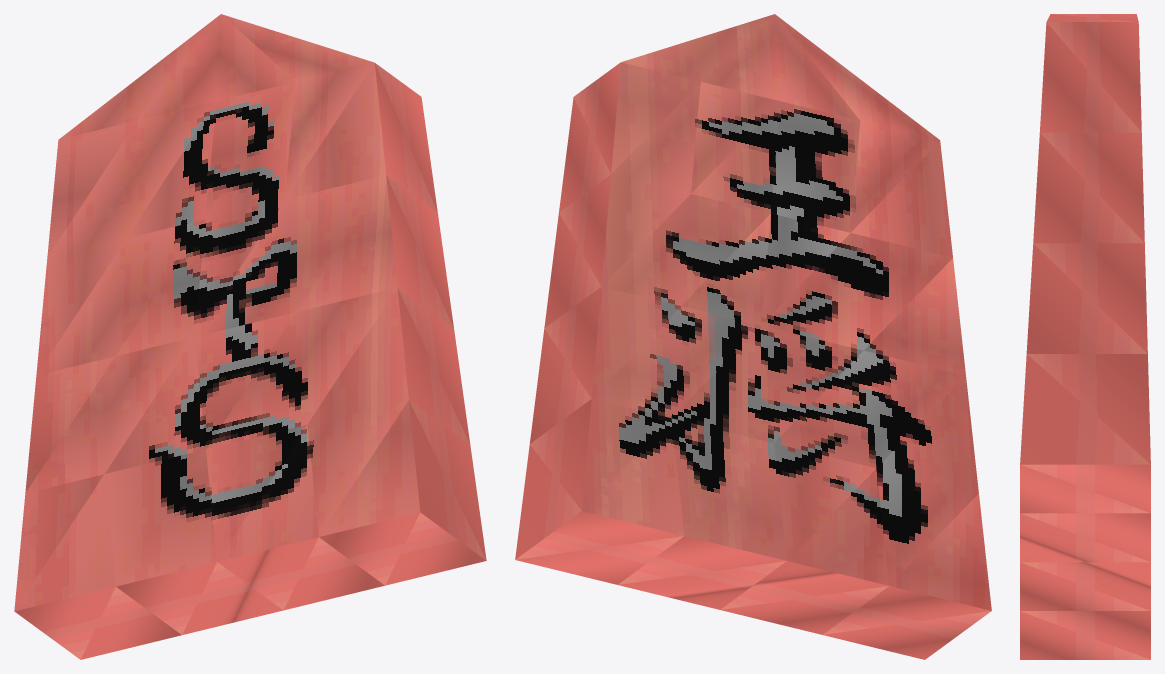
The model's file is ps2_save-icons_saikyoutoudaishougi2003-systemsave.glb.
3 views of the same model, side by side, from view 1: azimuth 30°, elevation 25°; view 2: azimuth 150°, elevation 25°; view 3: azimuth 270°, elevation 25° (orthographic). The views are drawn at different scales.
Parts seen in each view (by area): view 1: system.ico; view 2: system.ico; view 3: system.ico.
Part boxes in pixels (x1,y1,x2,y2): system.ico: [14, 14, 486, 659]; system.ico: [515, 14, 991, 659]; system.ico: [1020, 14, 1150, 659].
Bounding box in the file's own units: 3.14 × 4.09 × 0.8879.
1 material, 1 textured.
